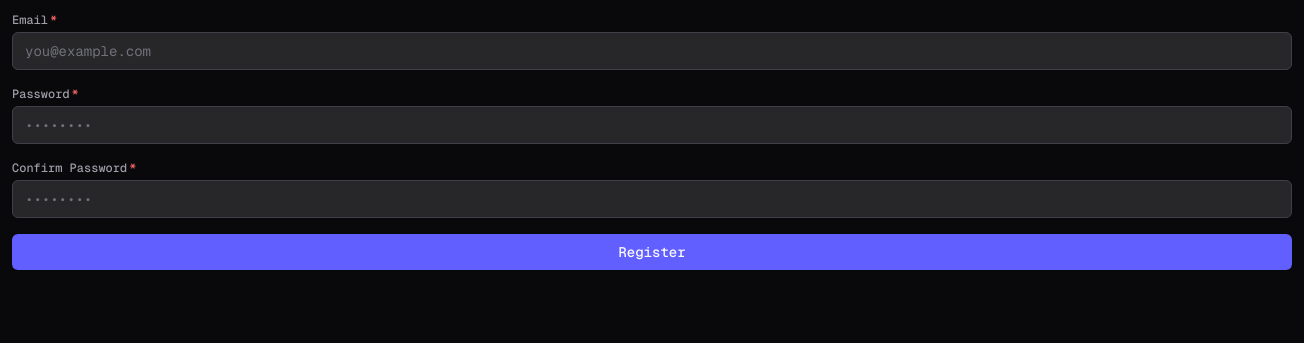
Test: RegisterForm › shows error when password is too short
The image size is (1304, 343).
Type "test@test.com" into the field labelled "Email*" at (652, 51), box [12,32,1292,70]
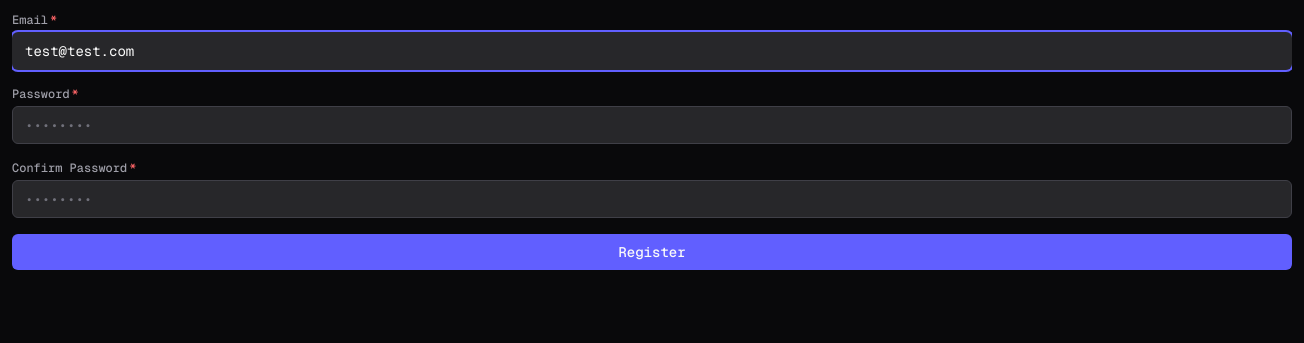
Type "Ab1!" into the password field labelled "Password*" at (652, 125), box [12,106,1292,144]
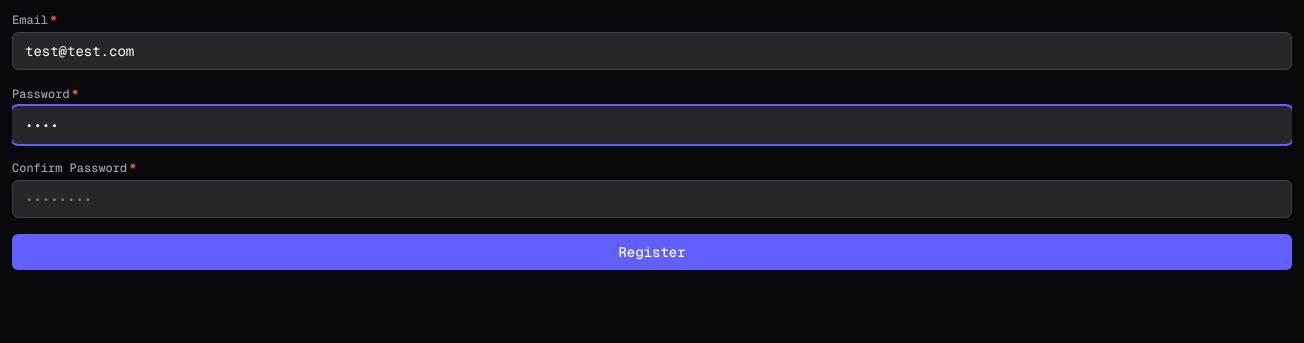
Type "Ab1!" into the password field labelled "Confirm Password*" at (652, 199), box [12,180,1292,218]
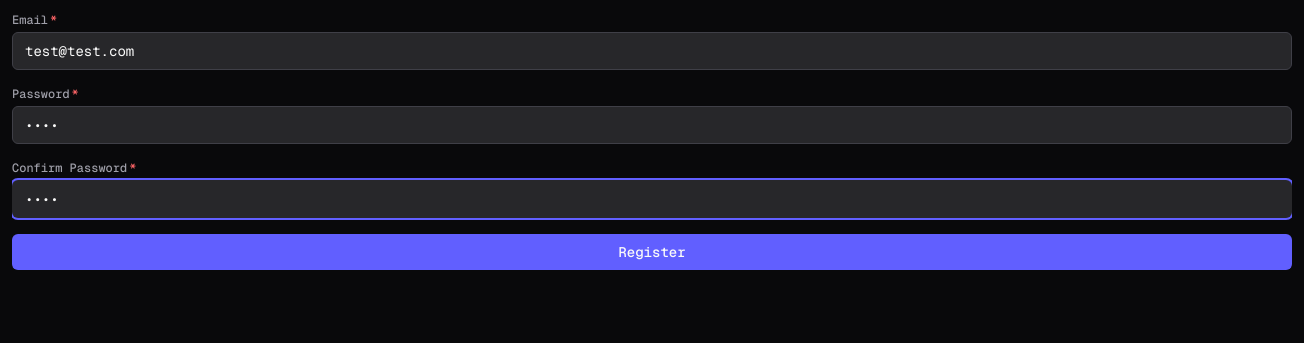
Click the button "Register" at (652, 252), box [12,234,1292,270]
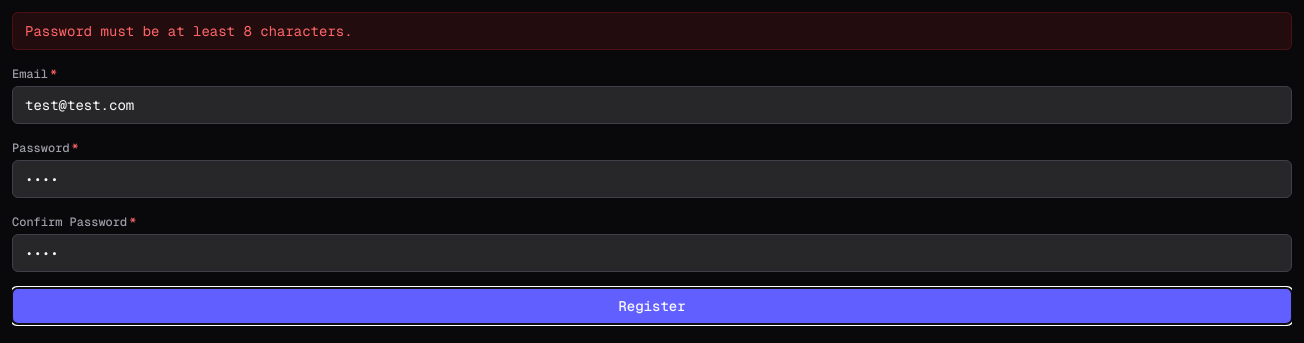
Expected: the text "Password must be at least 8 characters." is shown, [12,12,1292,50]
